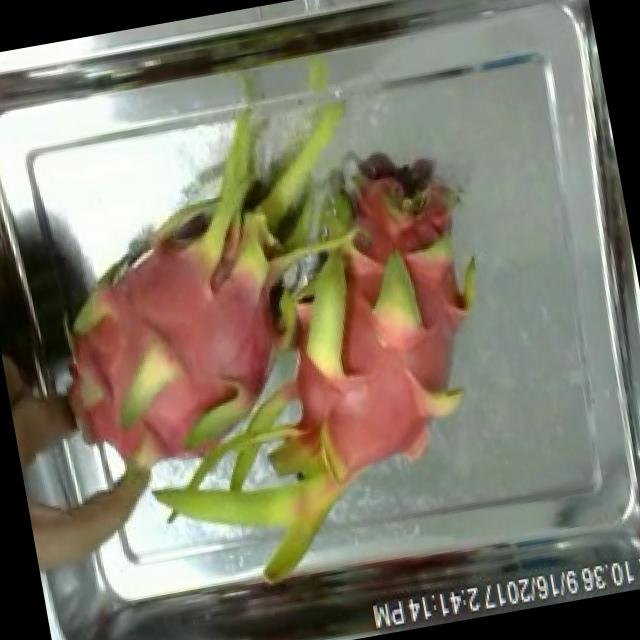Fruit: (325, 128, 480, 282), (24, 472, 96, 598)
